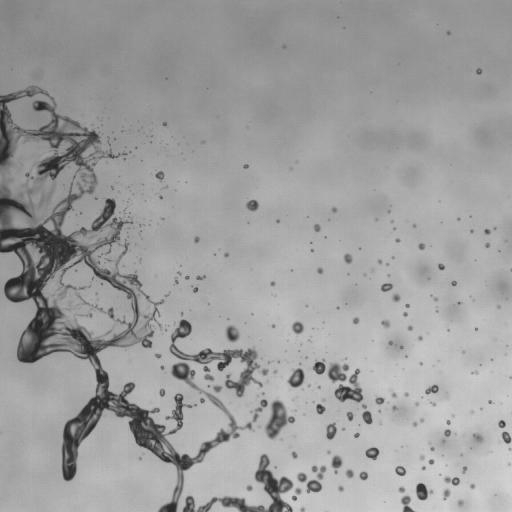droplet: (311, 359, 363, 402), (297, 465, 326, 492), (287, 367, 305, 388), (416, 482, 433, 500), (225, 325, 239, 342), (400, 494, 414, 511), (331, 455, 342, 473), (365, 447, 379, 459), (326, 423, 336, 439), (246, 200, 259, 211), (292, 321, 303, 334), (444, 476, 459, 485), (425, 384, 438, 394), (502, 431, 511, 443), (316, 403, 325, 414), (395, 466, 406, 475), (381, 283, 393, 291), (343, 253, 352, 263), (375, 396, 385, 405), (473, 433, 483, 442), (442, 488, 450, 499), (155, 171, 164, 180), (346, 412, 354, 421), (345, 469, 353, 478), (359, 471, 367, 480), (381, 320, 389, 328), (212, 385, 221, 392), (392, 294, 400, 301), (498, 420, 505, 427), (159, 388, 165, 396), (390, 389, 396, 397), (196, 275, 205, 280), (314, 224, 320, 231), (418, 243, 425, 249), (438, 263, 444, 270), (352, 317, 359, 323), (444, 429, 450, 436), (246, 484, 252, 491), (398, 486, 405, 492), (317, 267, 323, 273), (291, 452, 297, 458), (457, 500, 463, 506), (476, 68, 481, 74), (484, 229, 490, 234), (194, 236, 199, 242), (155, 353, 161, 358), (462, 466, 467, 472), (470, 483, 475, 489), (332, 207, 337, 212), (270, 281, 275, 286), (392, 405, 397, 410), (412, 421, 417, 426), (354, 432, 359, 437), (429, 459, 434, 464), (338, 486, 343, 491), (471, 371, 478, 374), (243, 164, 248, 168), (395, 238, 400, 242), (193, 287, 197, 292), (408, 325, 412, 330), (431, 402, 436, 406), (420, 455, 424, 460), (485, 243, 489, 247), (224, 253, 228, 257), (452, 281, 456, 285), (403, 312, 407, 316), (418, 336, 422, 340), (388, 341, 392, 345), (273, 369, 277, 373), (404, 392, 408, 396), (200, 398, 204, 402), (446, 420, 450, 424), (430, 446, 434, 450), (421, 466, 425, 470), (300, 507, 304, 511), (106, 258, 111, 261), (160, 366, 164, 369), (163, 122, 166, 125), (378, 260, 381, 263), (178, 271, 181, 274), (166, 293, 169, 296), (489, 400, 492, 403), (415, 402, 418, 405), (327, 450, 330, 453), (447, 31, 449, 34), (159, 196, 162, 198), (276, 220, 279, 222), (470, 230, 473, 232), (311, 249, 313, 252), (186, 276, 188, 279), (406, 304, 408, 307), (400, 346, 403, 348), (420, 419, 423, 421), (509, 447, 511, 450), (164, 186, 166, 188), (391, 220, 393, 222), (458, 302, 460, 304), (498, 305, 500, 307), (67, 307, 69, 309), (272, 324, 274, 326), (318, 386, 320, 388), (292, 398, 294, 400), (322, 398, 324, 400)
ligament: (0, 86, 295, 511), (182, 453, 293, 511), (362, 404, 372, 424), (291, 488, 301, 500), (105, 326, 114, 335), (80, 312, 92, 317), (103, 249, 110, 255), (431, 295, 437, 301), (174, 278, 178, 284)
